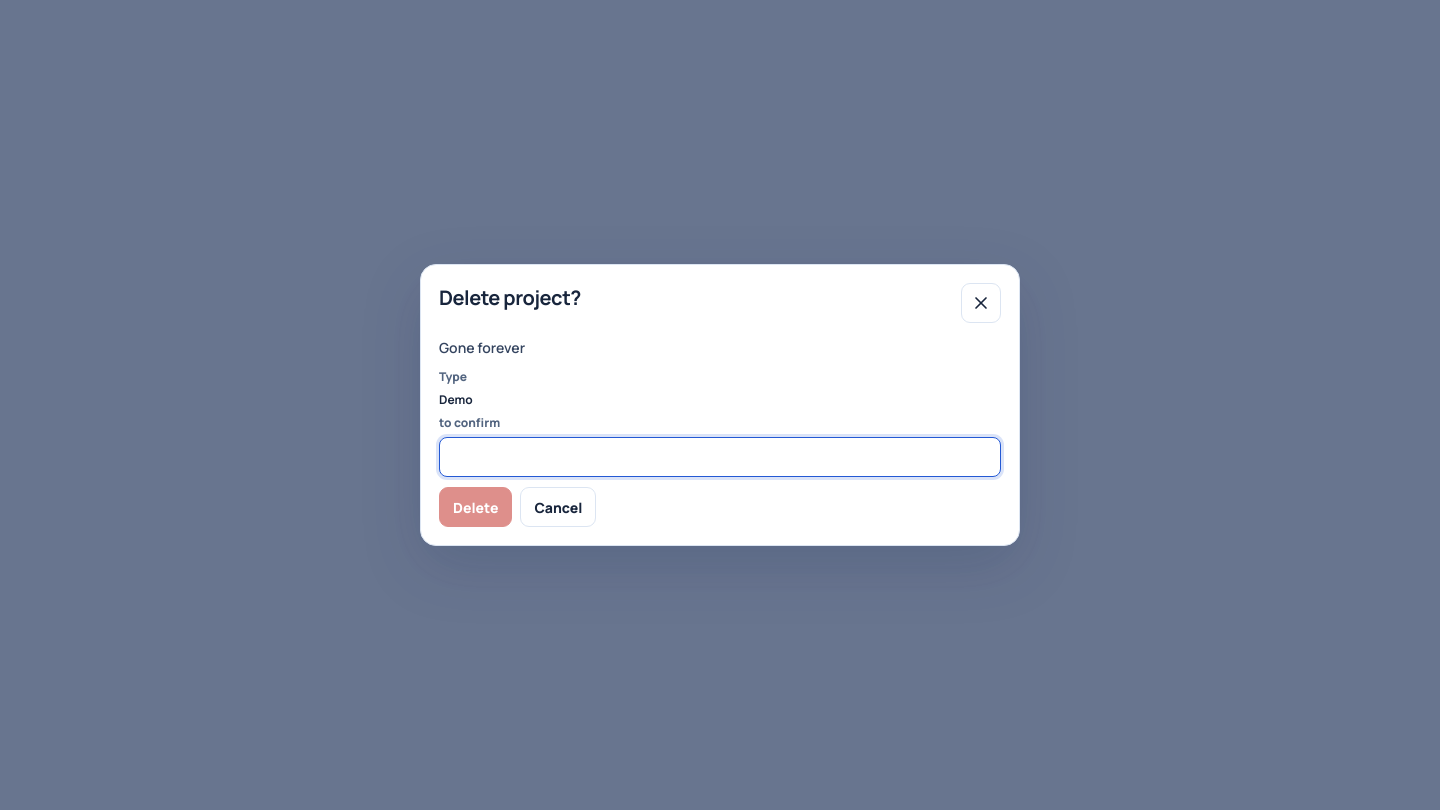
Test case: confirm dialog › resolves true only after the required text is typed
This screenshot has width=1440, height=810.
Later steps or results of the test are not shown.
Expected: the button "Delete" is disabled, [439, 487, 512, 527]
Type "Demo" into the field at (720, 457), box [439, 437, 1001, 477]
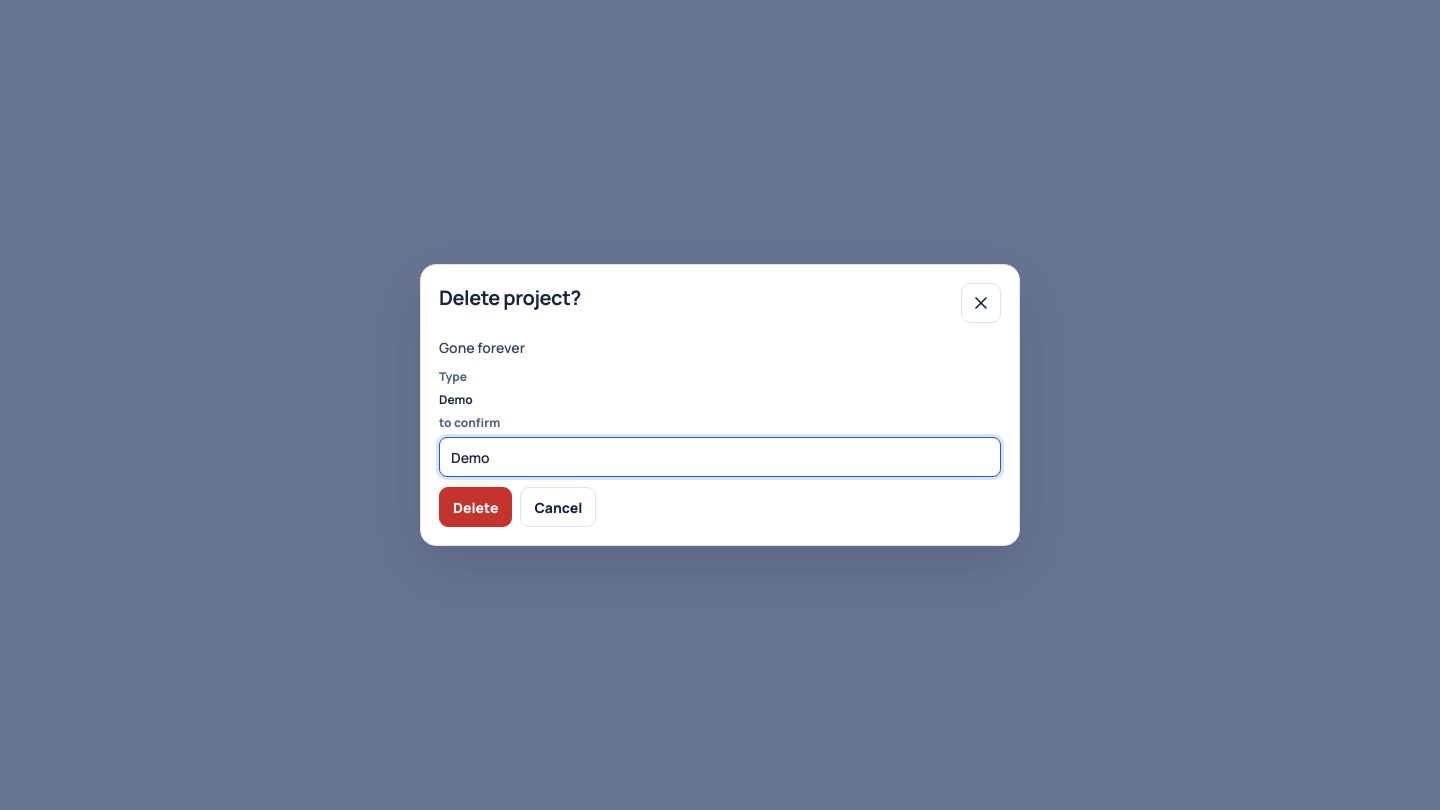
Expected: the button "Delete" is enabled, [439, 487, 512, 527]
